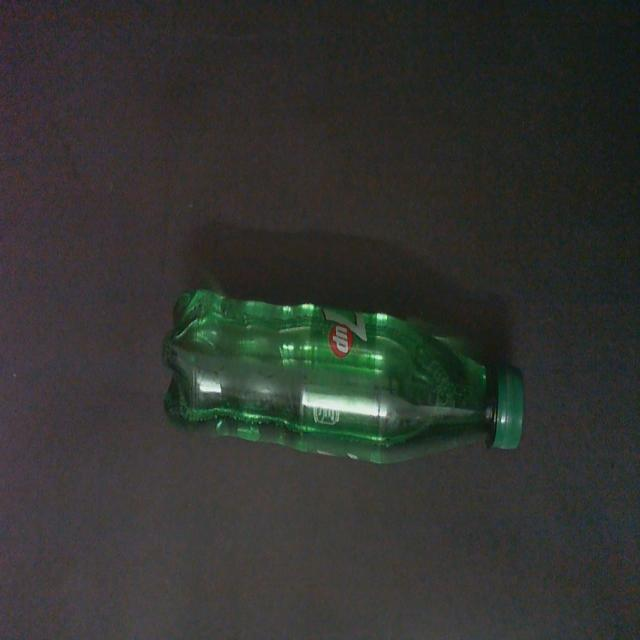non-defect: (159, 282, 527, 470)
